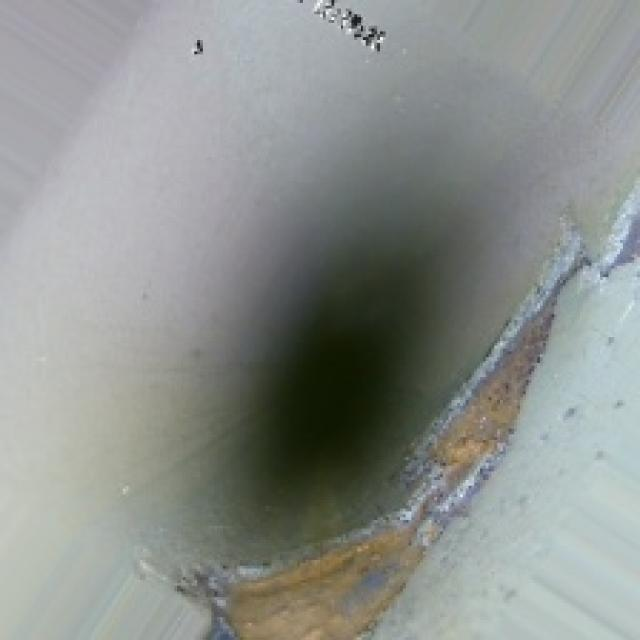pipe_surface_damage: (180, 272, 569, 634)
